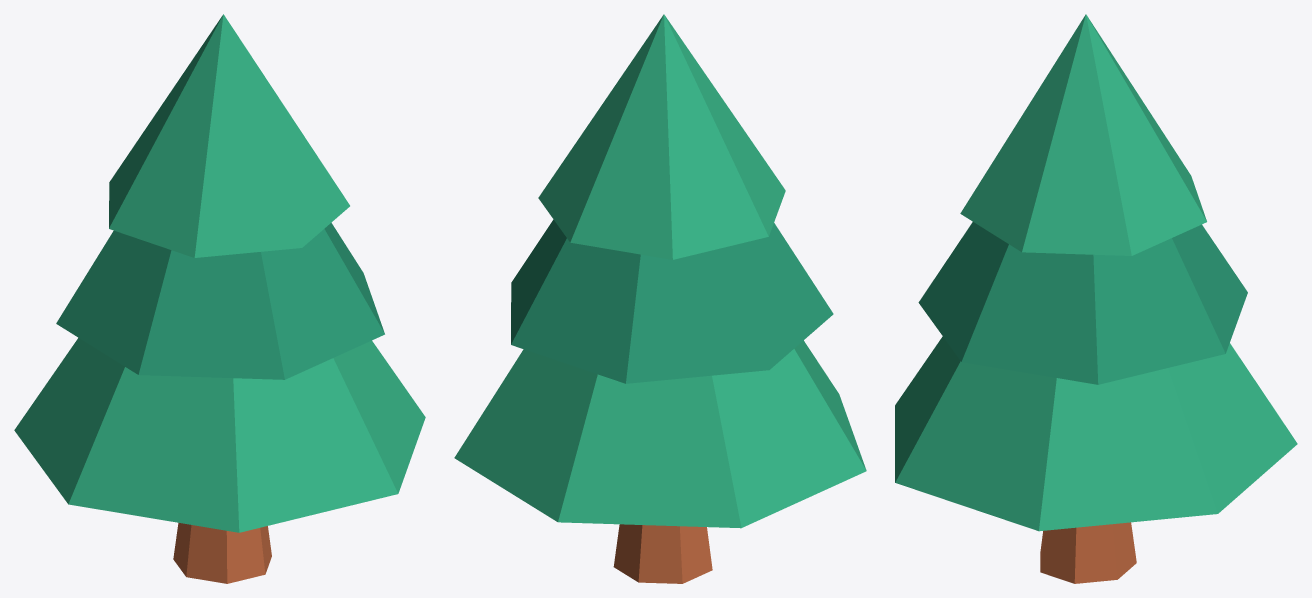
The model's file is prop_tree_pine.glb.
3 views of the same model, side by side, from view 1: azimuth 30°, elevation 25°; view 2: azimuth 150°, elevation 25°; view 3: azimuth 270°, elevation 25° (orthographic).
Visible parts, largest first — view 1: prop_tree_pine; view 2: prop_tree_pine; view 3: prop_tree_pine.
Part boxes in pixels (box(x1,y1,x2,y2)): prop_tree_pine: box(14, 14, 425, 583); prop_tree_pine: box(454, 14, 866, 583); prop_tree_pine: box(895, 14, 1297, 583).
Bounding box in the file's own units: 2.44 × 3.58 × 2.38.
